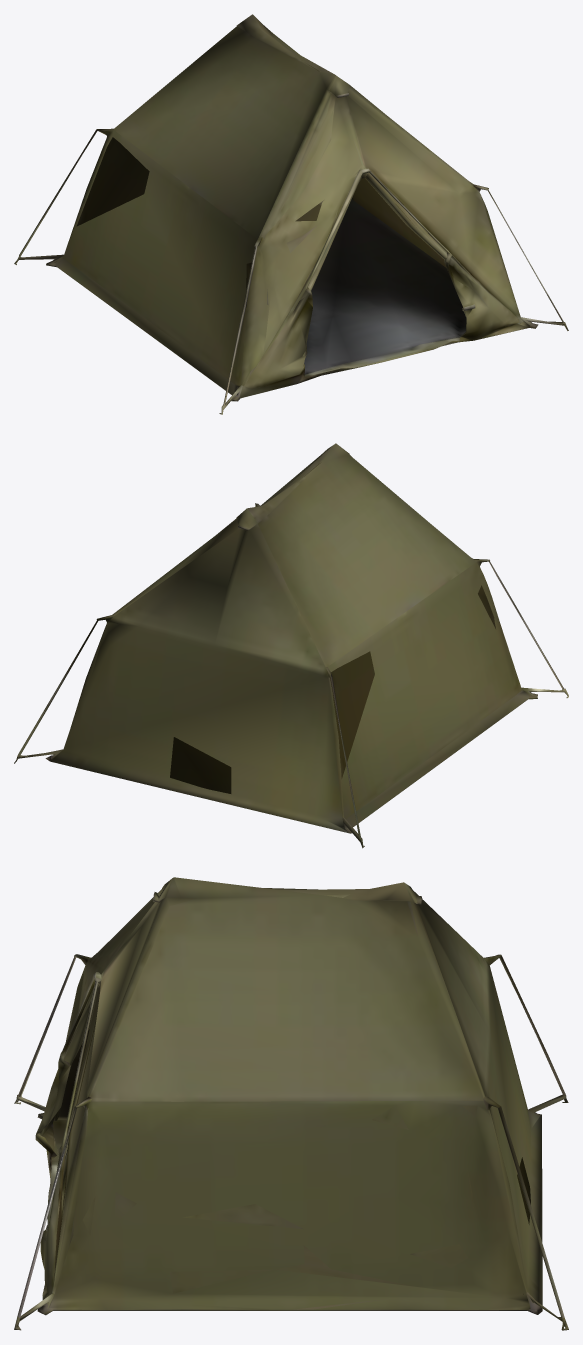
File: prop_tent.glb
3 views of the same model, one above another, from view 1: azimuth 30°, elevation 25°; view 2: azimuth 150°, elevation 25°; view 3: azimuth 270°, elevation 25° (orthographic). The views are drawn at different scales.
Parts seen in each view (by area): view 1: node_0; view 2: node_0; view 3: node_0.
Part boxes in pixels (x1,y1,x2,y2): node_0: [14, 14, 568, 414]; node_0: [14, 443, 568, 848]; node_0: [14, 877, 568, 1330].
Size of the model in its own units: 0.7529 by 0.5253 by 0.7752.
Materials: 1 (1 with a texture image).
